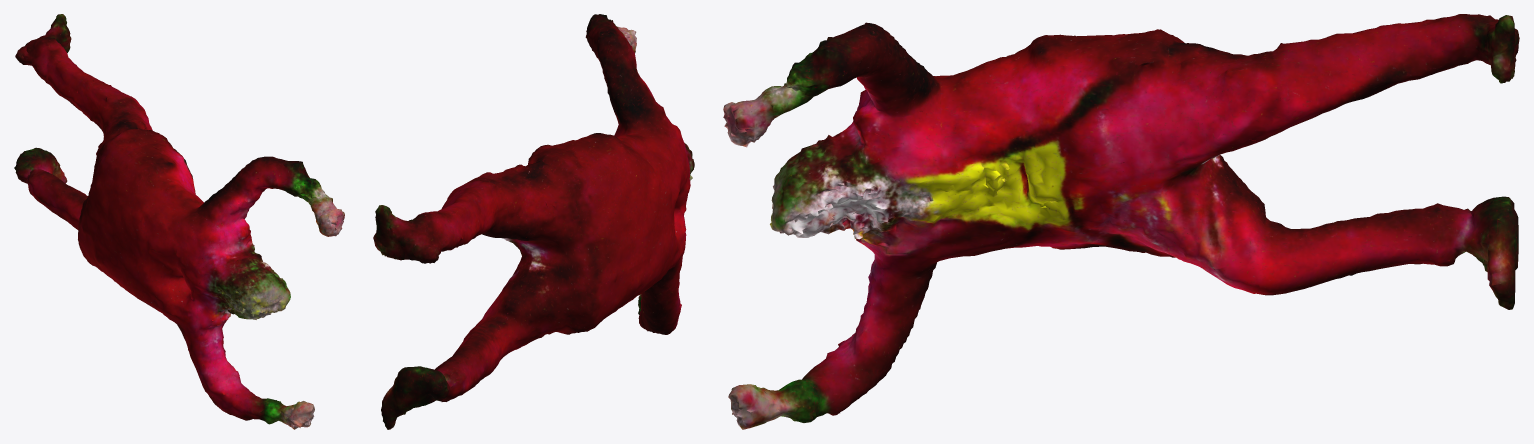
Rendered from joker_before.gltf.
The picture shows the model from 3 angles, left to right: view 1: azimuth 30°, elevation 25°; view 2: azimuth 150°, elevation 25°; view 3: azimuth 270°, elevation 25°; orthographic projection. The views are drawn at different scales.
Visible parts, largest first — view 1: model; view 2: model; view 3: model.
Boxes of the visible parts, box(x1,y1,x2,y2) form: model: box(14, 14, 344, 429); model: box(373, 14, 694, 429); model: box(723, 14, 1519, 429).
Size of the model in its own units: 0.386 by 0.6756 by 1.18.
1 material, 1 textured.
